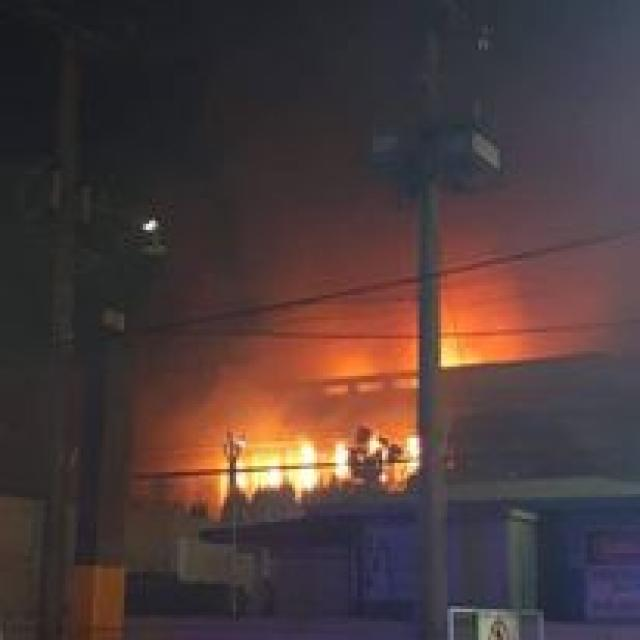Fire: (243, 305, 398, 444), (212, 412, 436, 498), (441, 263, 542, 376)
Smoke: (200, 264, 378, 454)
